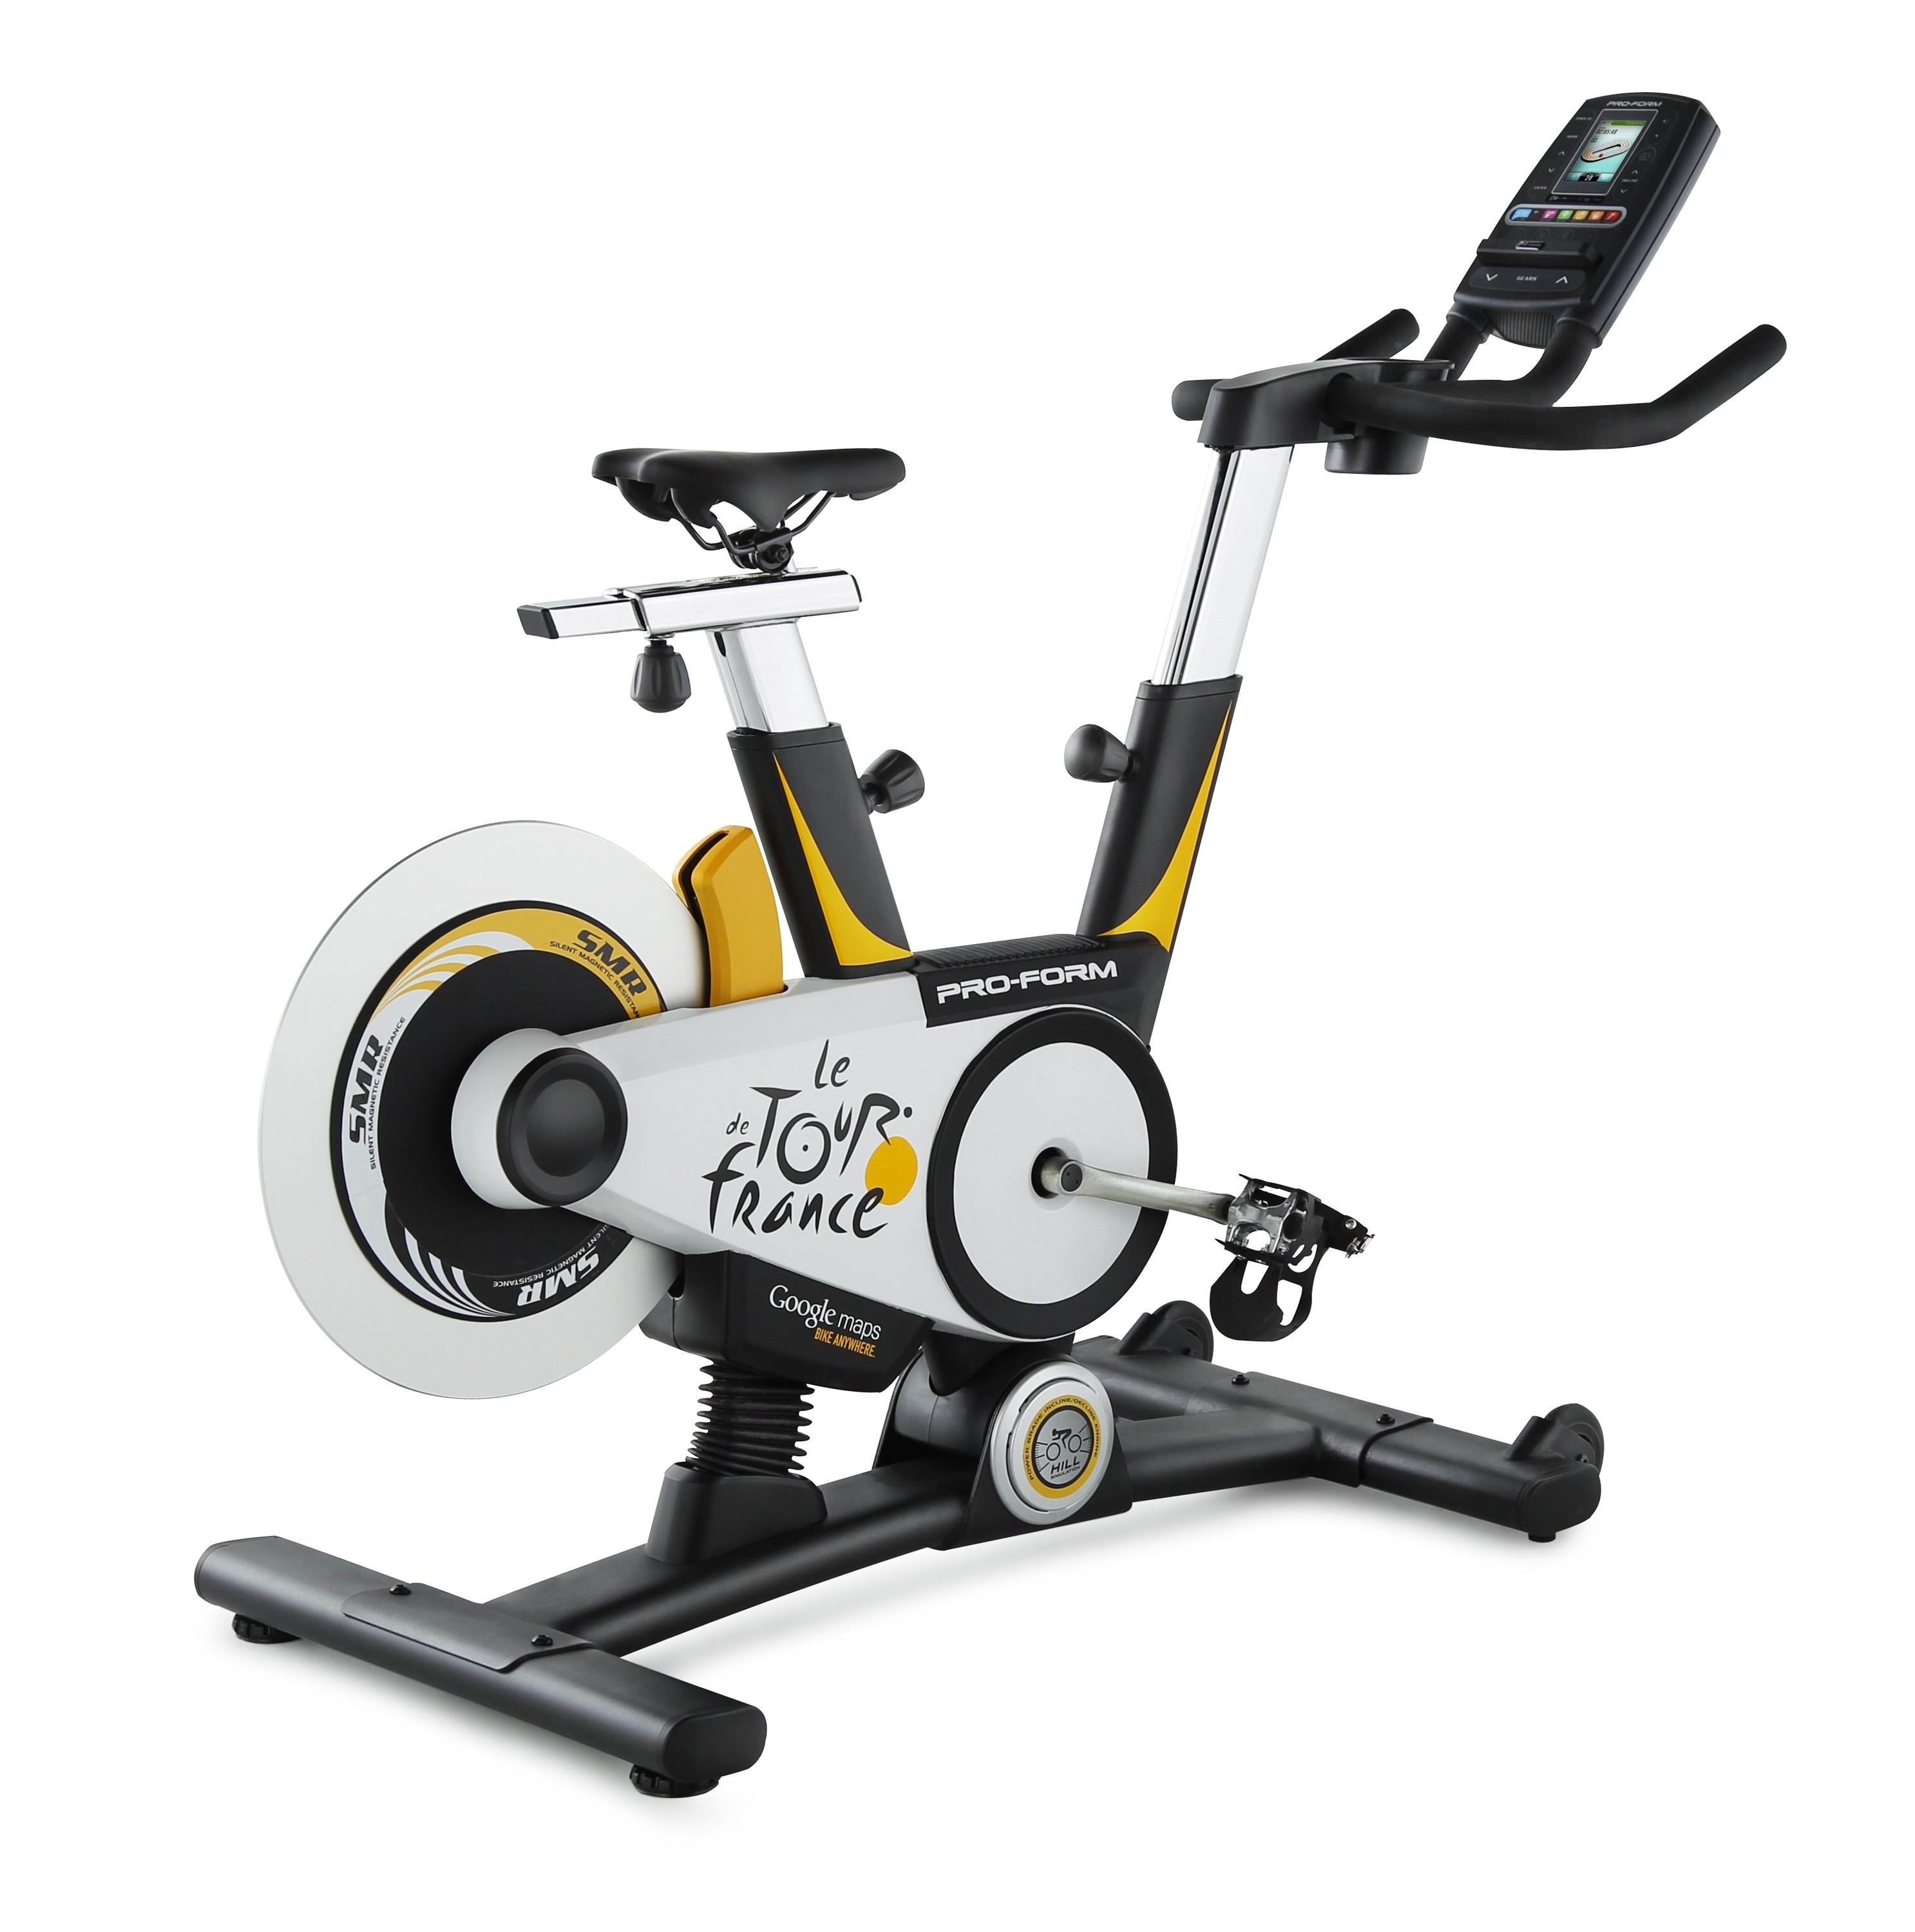gym_bike: (172, 70, 1790, 1767)
